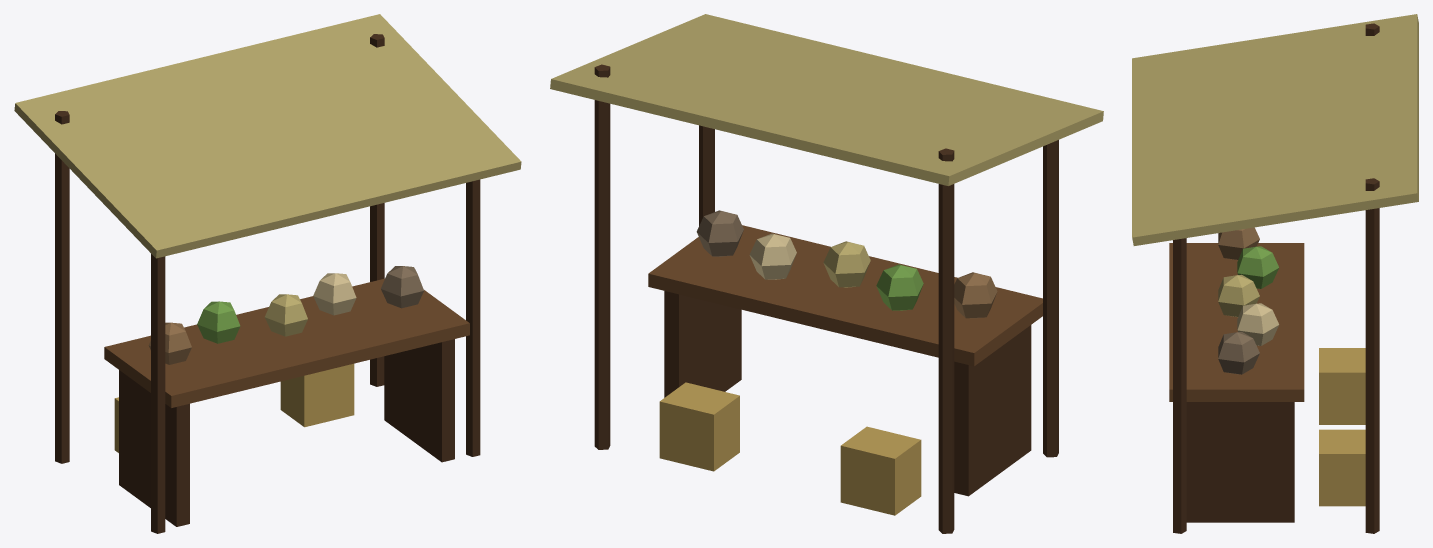
Rendered from prop_market_stall.glb.
3 views of the same model, side by side, from view 1: azimuth 30°, elevation 25°; view 2: azimuth 150°, elevation 25°; view 3: azimuth 270°, elevation 25° (orthographic). The views are drawn at different scales.
Visible parts, largest first — view 1: prop_market_stall; view 2: prop_market_stall; view 3: prop_market_stall.
Part boxes in pixels (left/top/right/bottom): prop_market_stall: left=14, top=14, right=521, bottom=533; prop_market_stall: left=550, top=14, right=1103, bottom=533; prop_market_stall: left=1132, top=14, right=1418, bottom=533.
Size of the model in its own units: 2.2 by 2.01 by 1.49.
